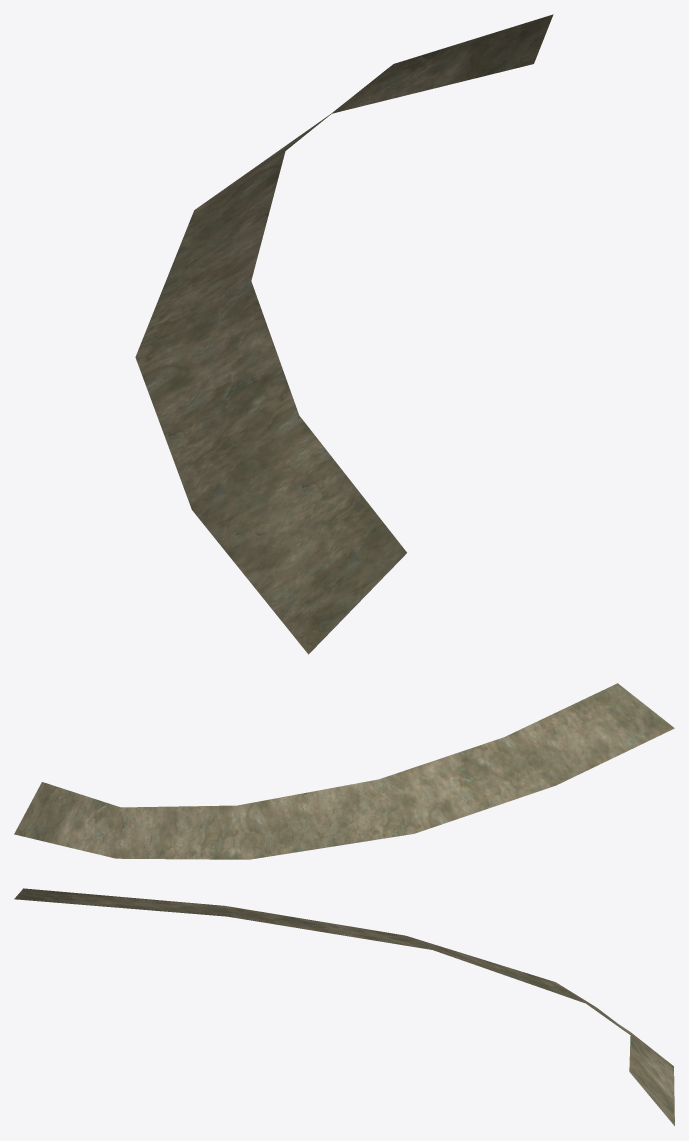
Rendered from OVERHILL_A_01_OBJECT184.fbx.
3 views of the same model, one above another, from view 1: azimuth 30°, elevation 25°; view 2: azimuth 150°, elevation 25°; view 3: azimuth 270°, elevation 25° (orthographic). The views are drawn at different scales.
Visible parts, largest first — view 1: OVERHILL_A_01_OBJECT184; view 2: OVERHILL_A_01_OBJECT184; view 3: OVERHILL_A_01_OBJECT184.
Part boxes in pixels (bbox=[...]): OVERHILL_A_01_OBJECT184: bbox=[135, 14, 553, 654]; OVERHILL_A_01_OBJECT184: bbox=[14, 683, 674, 859]; OVERHILL_A_01_OBJECT184: bbox=[14, 888, 674, 1125].
Bounding box in the file's own units: 234198 × 23833 × 287481.
Materials: 1 (1 with a texture image).
